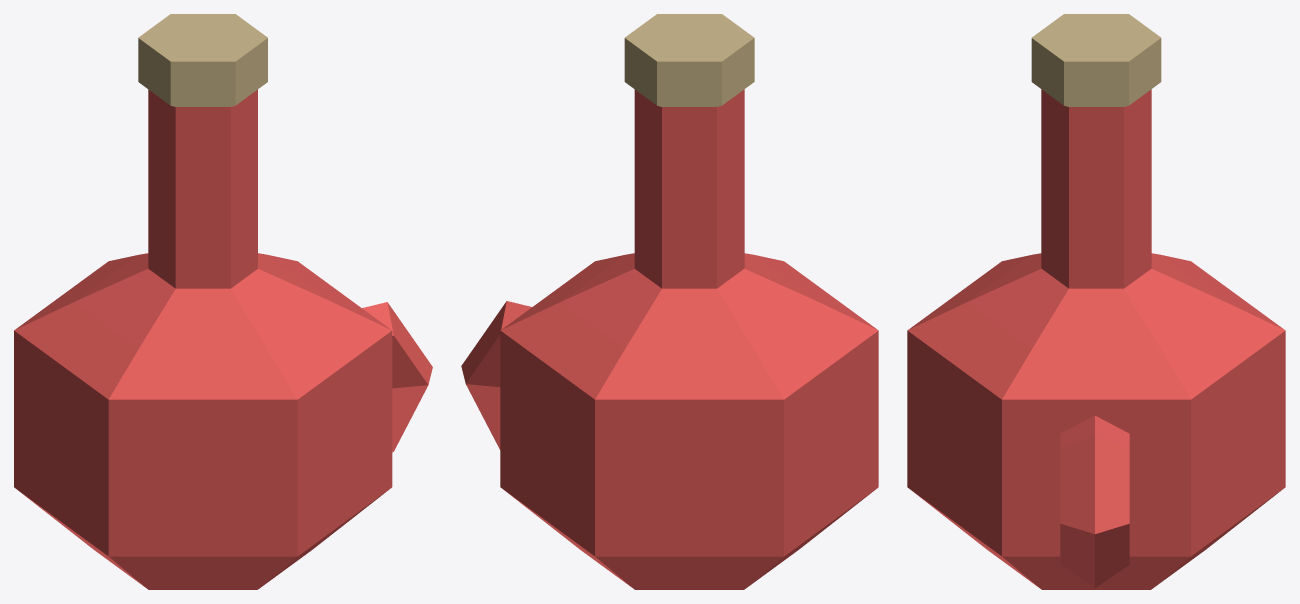
File: HandlePotion.024.fbx
3 renders of one model, left to right at view 1: azimuth 30°, elevation 25°; view 2: azimuth 150°, elevation 25°; view 3: azimuth 270°, elevation 25°, orthographic.
Visible parts, largest first — view 1: HandlePotion.024; view 2: HandlePotion.024; view 3: HandlePotion.024.
Boxes of the visible parts, x1,y1,x2,y2 form: HandlePotion.024: (14, 14, 432, 589); HandlePotion.024: (461, 14, 878, 589); HandlePotion.024: (907, 14, 1285, 589).
Bounding box in the file's own units: 14.38 × 18.98 × 12.7.
